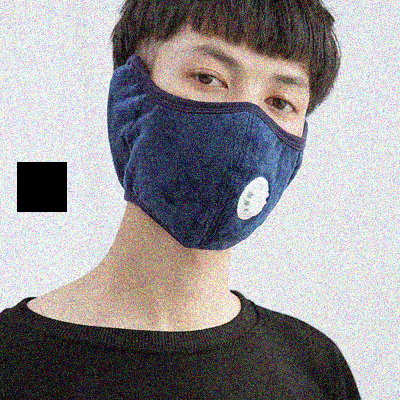with_mask: (143, 39, 309, 257)
